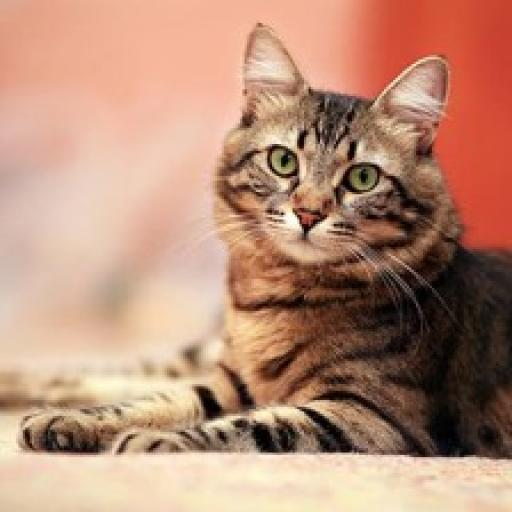cat: (25, 20, 512, 462)
